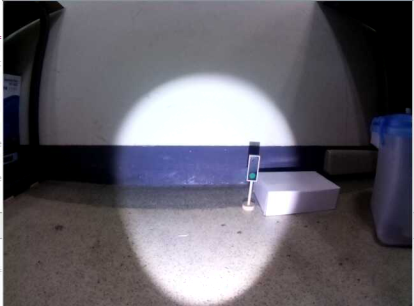Green: (245, 152, 260, 185)
